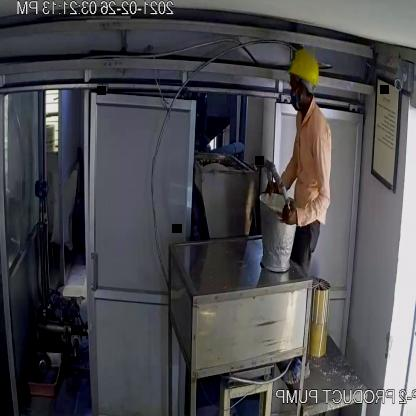helmet: (286, 39, 326, 92)
